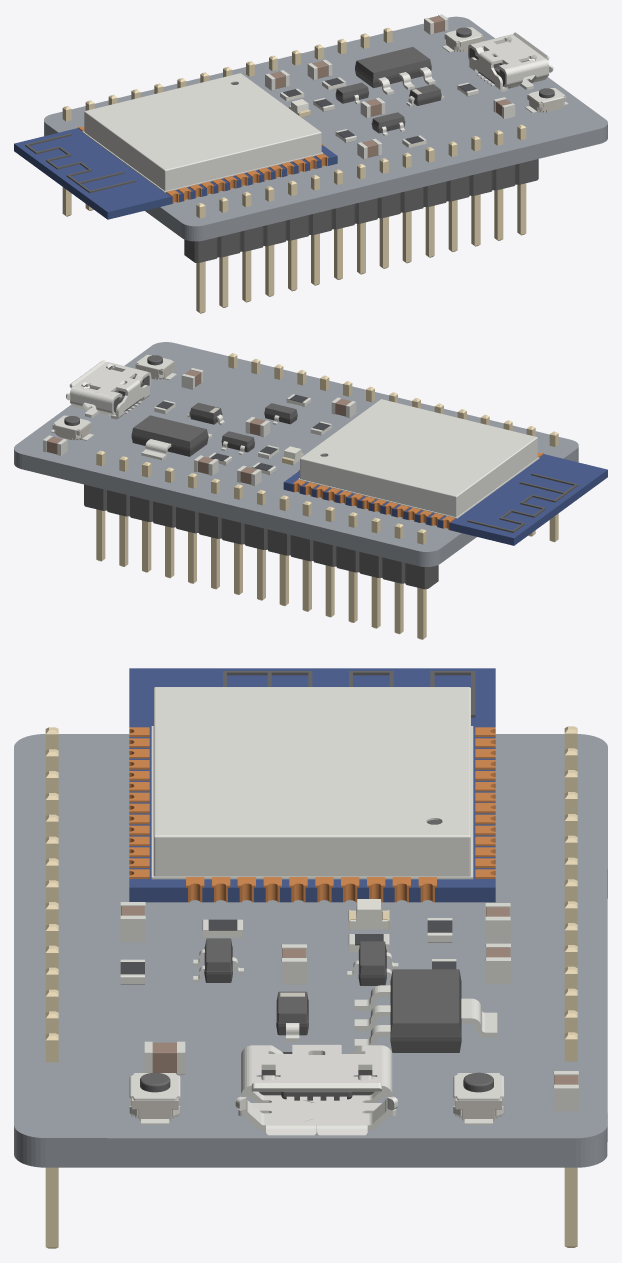
The model's file is active.digital-twin.glb.
3 renders of one model, top to bottom at view 1: azimuth 30°, elevation 25°; view 2: azimuth 150°, elevation 25°; view 3: azimuth 270°, elevation 25°, orthographic. The views are drawn at different scales.
Parts seen in each view (by area): view 1: Board shell, ref:U1, ref:J2, ref:J1, ref:U2, ref:J3, ref:SW1, ref:SW2, ref:D1, ref:Q1, ref:Q2, ref:C2 (+4 smaller); view 2: Board shell, ref:U1, ref:J3, ref:J1, ref:U2, ref:J2, ref:SW2, ref:SW1, ref:D1, ref:Q2, ref:Q1, ref:C6 (+4 smaller); view 3: Board shell, ref:U1, ref:J1, ref:U2, ref:J2, ref:J3, ref:SW1, ref:SW2, ref:Q1, ref:Q2, ref:D1, ref:C4 (+7 smaller).
Boxes of the visible parts, left/top/right/bottom form: Board shell: left=44, top=16, right=607, bottom=241; ref:U1: left=14, top=73, right=337, bottom=219; ref:J2: left=184, top=124, right=538, bottom=313; ref:J1: left=468, top=32, right=553, bottom=91; ref:U2: left=355, top=47, right=435, bottom=94; ref:J3: left=62, top=27, right=392, bottom=216; ref:SW1: left=525, top=88, right=568, bottom=113; ref:SW2: left=442, top=27, right=483, bottom=52; ref:D1: left=406, top=84, right=444, bottom=106; ref:Q1: left=371, top=112, right=405, bottom=135; ref:Q2: left=335, top=82, right=368, bottom=104; ref:C2: left=307, top=59, right=332, bottom=80; Board shell: left=14, top=342, right=578, bottom=566; ref:U1: left=283, top=399, right=607, bottom=545; ref:J3: left=84, top=450, right=438, bottom=639; ref:J1: left=66, top=360, right=151, bottom=419; ref:U2: left=131, top=415, right=212, bottom=460; ref:J2: left=228, top=353, right=558, bottom=542; ref:SW2: left=50, top=415, right=93, bottom=440; ref:SW1: left=135, top=354, right=176, bottom=380; ref:D1: left=187, top=402, right=224, bottom=425; ref:Q2: left=221, top=431, right=254, bottom=454; ref:Q1: left=264, top=403, right=297, bottom=424; ref:C6: left=331, top=397, right=356, bottom=417; Board shell: left=14, top=734, right=607, bottom=1167; ref:U1: left=129, top=668, right=495, bottom=902; ref:J1: left=235, top=1044, right=397, bottom=1135; ref:U2: left=354, top=969, right=497, bottom=1052; ref:J2: left=45, top=727, right=58, bottom=1248; ref:J3: left=564, top=726, right=577, bottom=1247; ref:SW1: left=129, top=1072, right=180, bottom=1124; ref:SW2: left=453, top=1072, right=504, bottom=1124; ref:Q1: left=193, top=938, right=243, bottom=982; ref:Q2: left=347, top=941, right=398, bottom=985; ref:D1: left=276, top=991, right=308, bottom=1041; ref:C4: left=144, top=1041, right=185, bottom=1074.
Size of the model in its own units: 0.0529 by 0.0133 by 0.0292.
